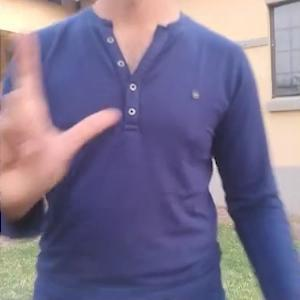land_hand: (0, 21, 121, 212)
